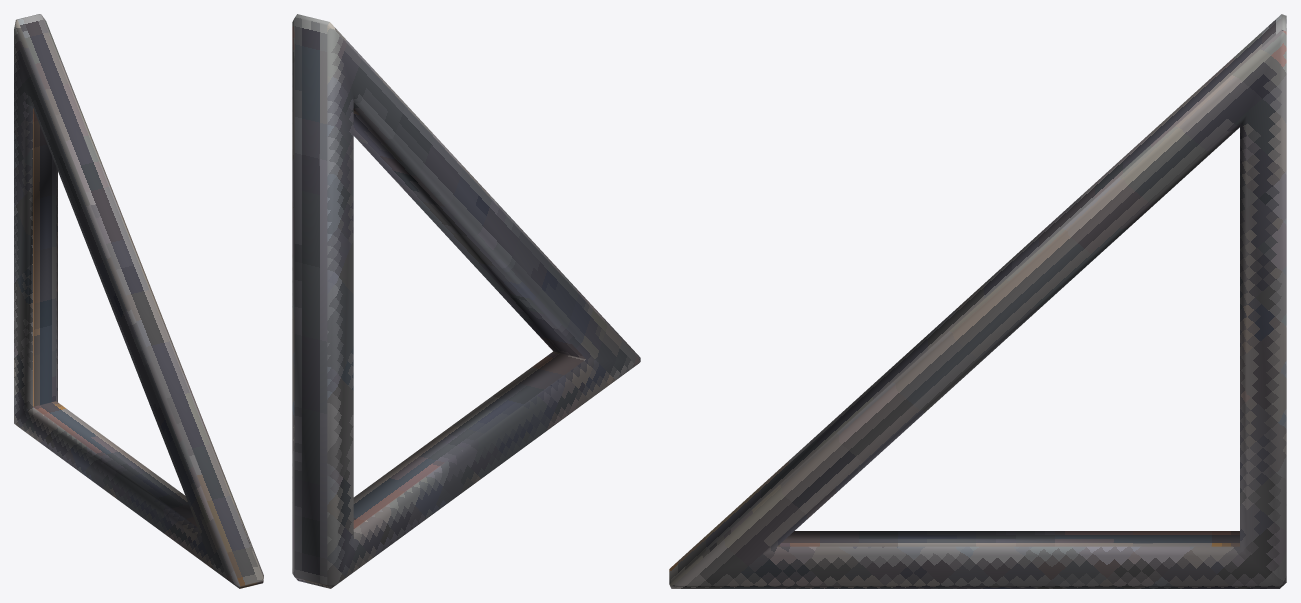
File: item_metal_triangle.glb
3 renders of one model, left to right at view 1: azimuth 30°, elevation 25°; view 2: azimuth 150°, elevation 25°; view 3: azimuth 270°, elevation 25°, orthographic. The views are drawn at different scales.
Parts seen in each view (by area): view 1: MetalTriangle; view 2: MetalTriangle; view 3: MetalTriangle.
Boxes of the visible parts, box(x1,y1,x2,y2) form: MetalTriangle: box(14, 14, 263, 588); MetalTriangle: box(292, 14, 640, 588); MetalTriangle: box(669, 14, 1286, 588).
Bounding box in the file's own units: 0.1269 × 1.54 × 1.54.
Materials: 1 (1 with a texture image).
